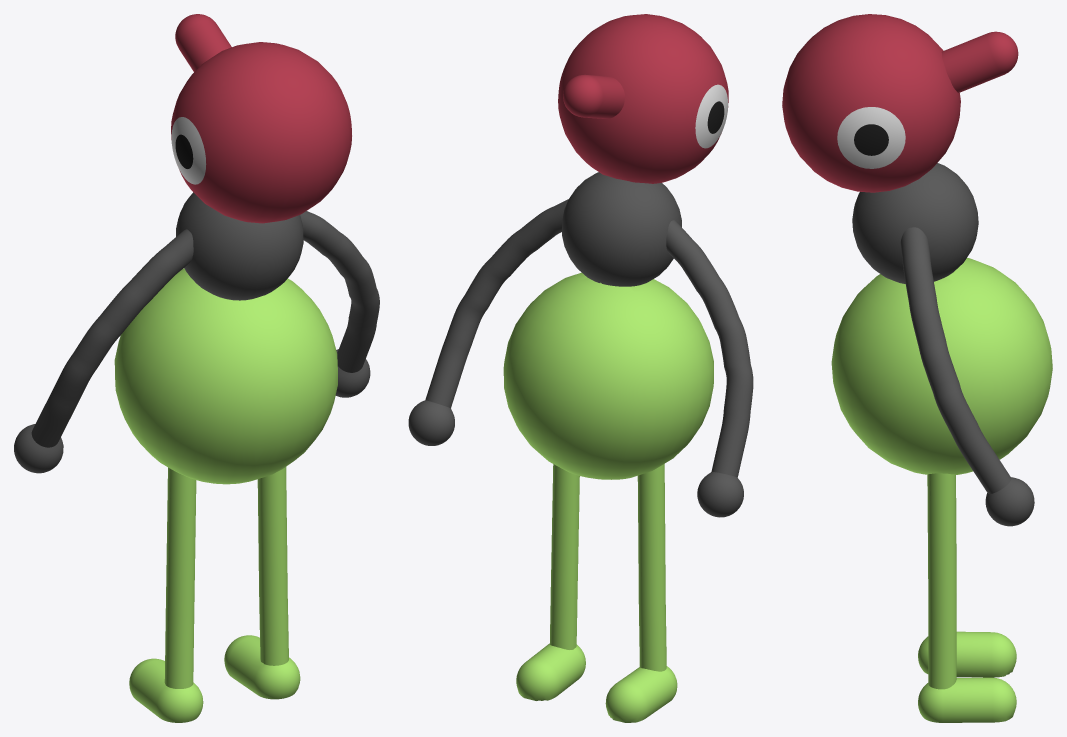
File: BigWalkStare.fbx
The picture shows the model from 3 angles, left to right: view 1: azimuth 30°, elevation 25°; view 2: azimuth 150°, elevation 25°; view 3: azimuth 270°, elevation 25°; orthographic projection. The views are drawn at different scales.
Parts seen in each view (by area): view 1: Cylinder.003; view 2: Cylinder.003; view 3: Cylinder.003.
Boxes of the visible parts, x1=… form: Cylinder.003: x1=14, y1=14, x2=379, y2=722; Cylinder.003: x1=408, y1=14, x2=753, y2=722; Cylinder.003: x1=782, y1=14, x2=1052, y2=722.
Size of the model in its own units: 0.5989 by 0.8801 by 1.63.
